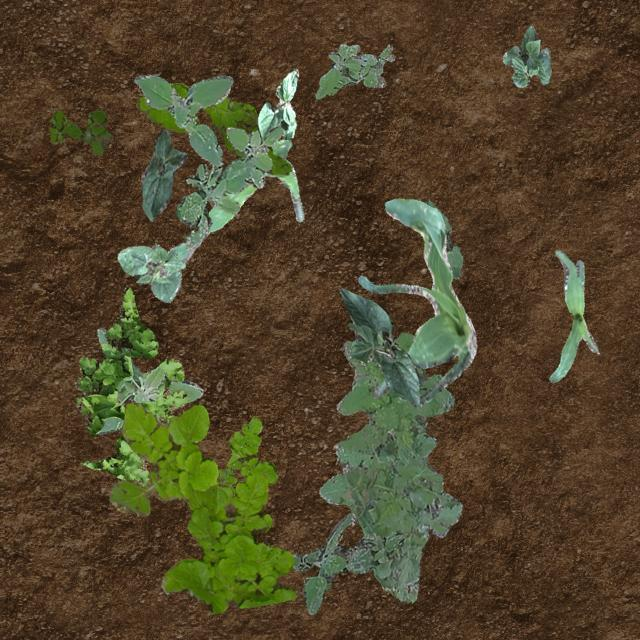crop: (356, 198, 476, 402), (170, 138, 302, 262), (338, 286, 420, 409), (548, 250, 598, 382), (140, 128, 186, 220), (116, 242, 184, 302), (424, 198, 462, 278), (502, 24, 550, 86), (256, 68, 298, 138)
weed: (108, 400, 296, 612), (318, 332, 462, 602), (134, 73, 282, 250), (72, 286, 186, 486), (136, 81, 290, 176), (291, 511, 405, 614), (96, 326, 202, 434), (214, 416, 276, 496), (314, 42, 394, 98), (48, 110, 112, 154)
